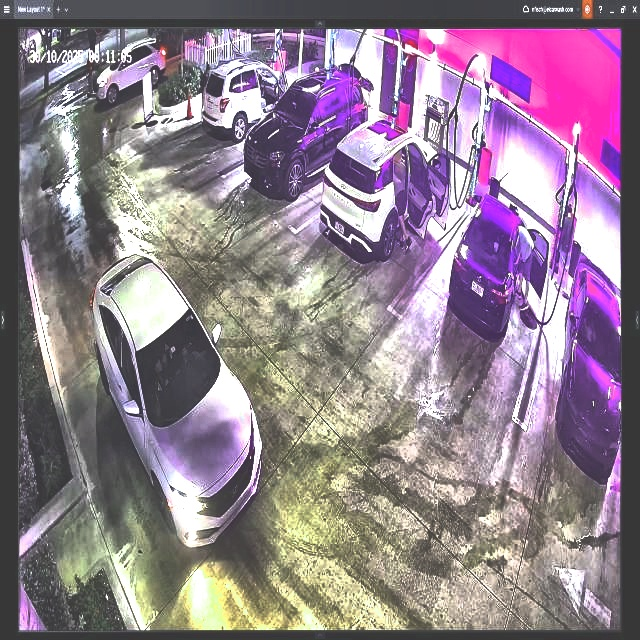Car: (89, 248, 257, 544), (324, 119, 449, 263), (245, 69, 366, 198), (455, 195, 546, 343)
